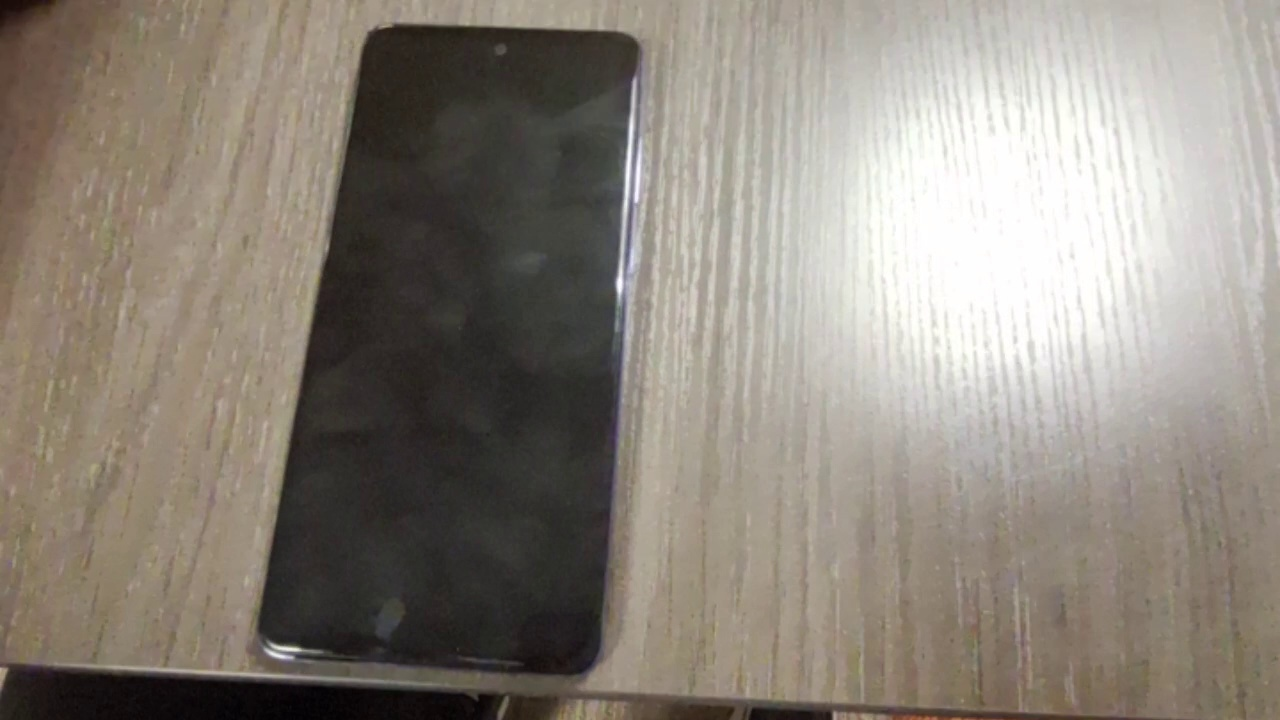celular: (255, 27, 642, 679)
